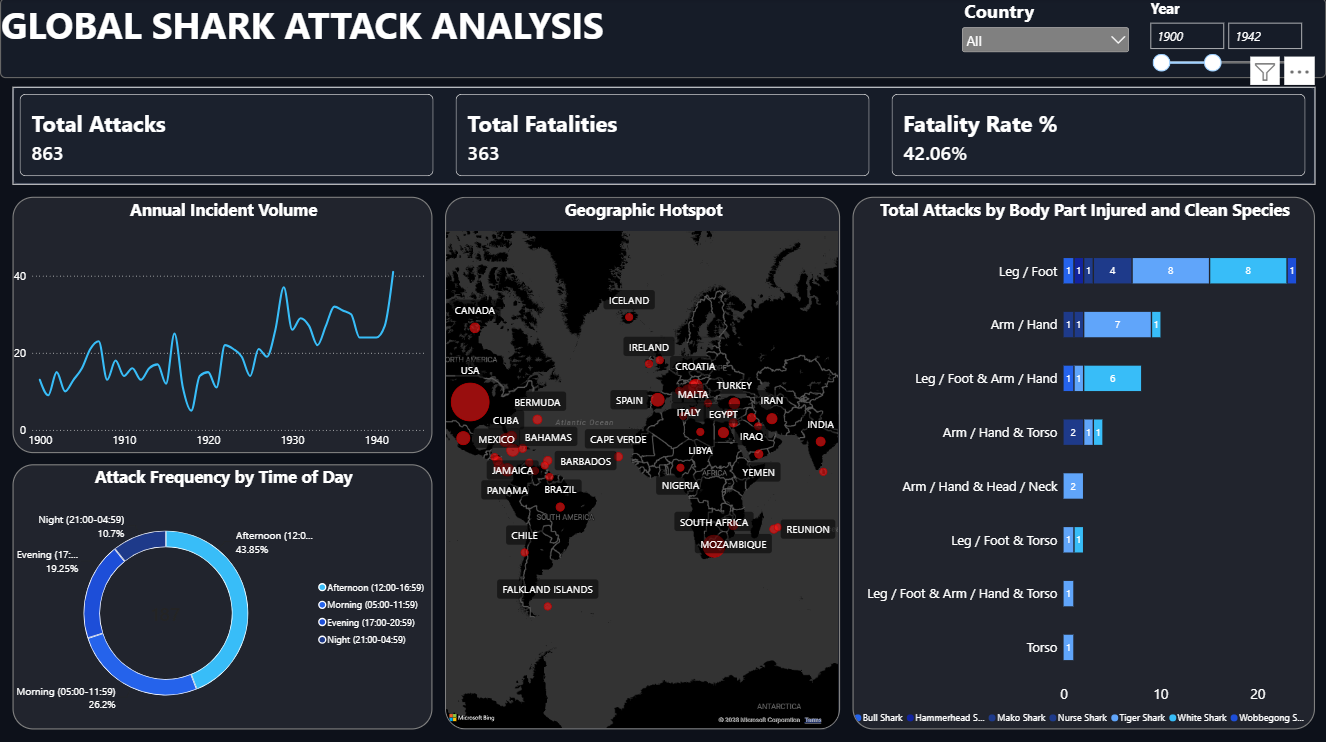

The page's visual inventory and layout, read from the dashboard file:
{"tool":"powerbi","page":{"name":"Page 1","canvas":[1920,1080],"ordinal":0},"visuals":[{"type":"textbox","box":[0,0,1920.1,115.8],"z":0},{"type":"slicer","fields":{"Values":["clean_attacks.Country"]},"box":[1388,0,251.5,88.7],"z":1000},{"type":"slicer","fields":{"Values":["clean_attacks.Year"]},"box":[1657.6,0,246.1,144.8],"z":2000},{"type":"cardVisual","fields":{"Data":["clean_attacks.Total Attacks","clean_attacks.Total Fatalities","clean_attacks.Fatality Rate %"]},"box":[18.1,128.5,1885.7,141.2],"z":3000},{"type":"lineChart","title":"Annual Incident Volume","fields":{"Category":["clean_attacks.Year"],"Y":["clean_attacks.Total Attacks"]},"box":[18.1,287.7,608,371],"z":4000},{"type":"donutChart","title":"Attack Frequency by Time of Day","fields":{"Category":["clean_attacks.Time_Category"],"Y":["clean_attacks.Total Attacks"]},"box":[18.1,675,608,383.6],"z":5000},{"type":"barChart","title":"Total Attacks by Body Part Injured and Clean Species","fields":{"Category":["clean_attacks.Body_Part_Injured"],"Y":["clean_attacks.Total Attacks"],"Series":["clean_attacks.Clean_Species"]},"box":[1234.2,287.7,669.6,770.9],"z":6000},{"type":"map","title":"Geographic Hotspot","fields":{"Category":["clean_attacks.Country"],"Size":["clean_attacks.Total Attacks"]},"box":[644.2,287.7,571.9,770.9],"z":7000}]}

Visuals, with their boxes in screenshot pixels (x1, y1, x2, y2), scaled from the page's 1920x1080 canvas onto the 1326x742 screenshot:
textbox: bbox=[0, 0, 1325, 80]
slicer - clean_attacks.Country: bbox=[959, 0, 1132, 61]
slicer - clean_attacks.Year: bbox=[1145, 0, 1315, 99]
cardVisual - clean_attacks.Total Attacks x clean_attacks.Total Fatalities: bbox=[13, 88, 1315, 185]
"Annual Incident Volume" lineChart: bbox=[13, 198, 432, 453]
"Attack Frequency by Time of Day" donutChart: bbox=[13, 464, 432, 727]
"Total Attacks by Body Part Injured and Clean Species" barChart: bbox=[852, 198, 1315, 727]
"Geographic Hotspot" map: bbox=[445, 198, 840, 727]
